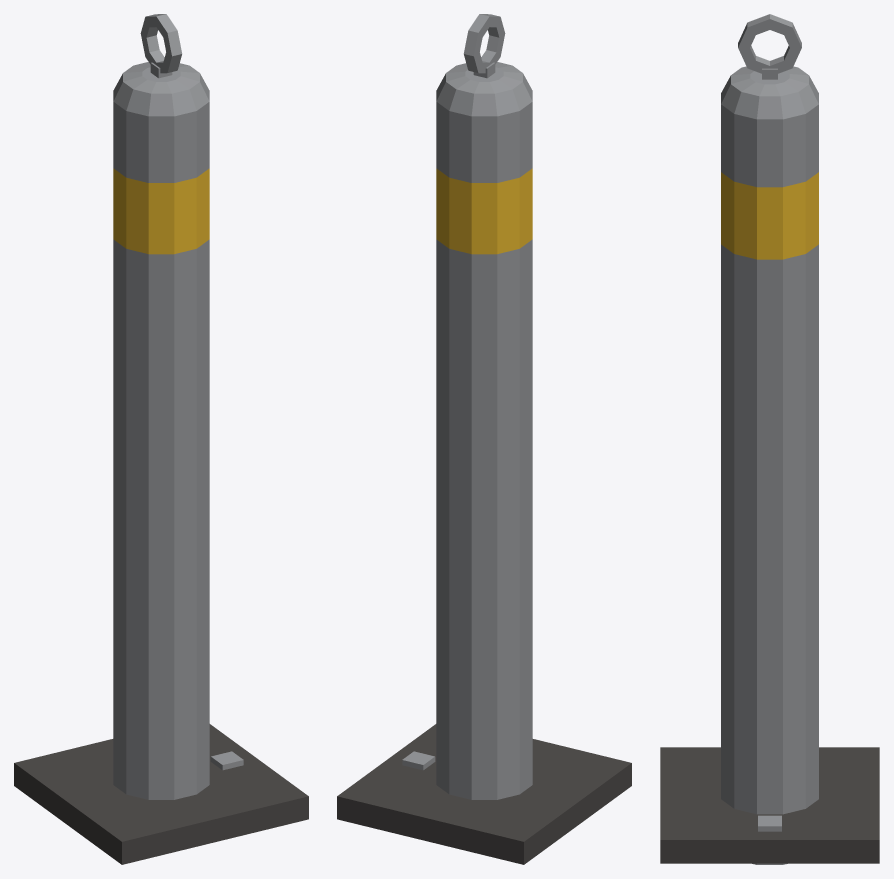
Rendered from SM_Street_Bollard_Removable_01.gltf.
3 renders of one model, left to right at view 1: azimuth 30°, elevation 25°; view 2: azimuth 150°, elevation 25°; view 3: azimuth 270°, elevation 25°, orthographic.
Visible parts, largest first — view 1: SM_Street_Bollard_Removable_01; view 2: SM_Street_Bollard_Removable_01; view 3: SM_Street_Bollard_Removable_01.
Part boxes in pixels (box(x1,y1,x2,y2)): SM_Street_Bollard_Removable_01: box(14, 14, 308, 864); SM_Street_Bollard_Removable_01: box(337, 14, 631, 864); SM_Street_Bollard_Removable_01: box(660, 14, 879, 864).
Size of the model in its own units: 0.22 by 0.916 by 0.22.
1 material, 1 textured.
